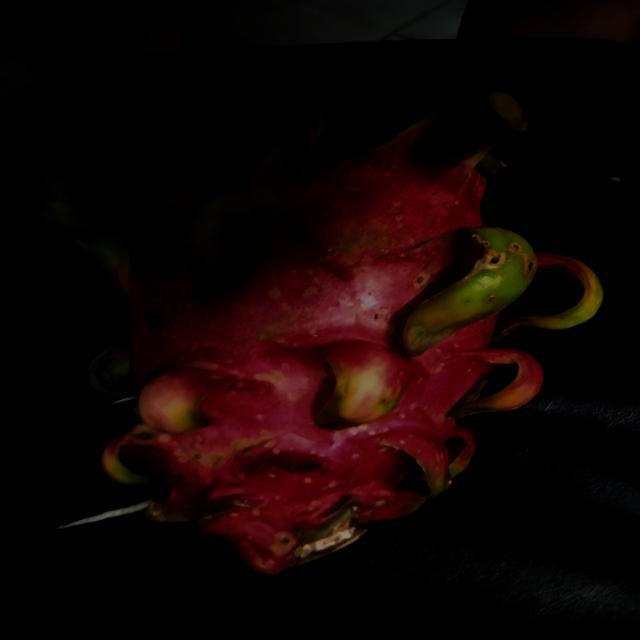do: (38, 0, 605, 582)
